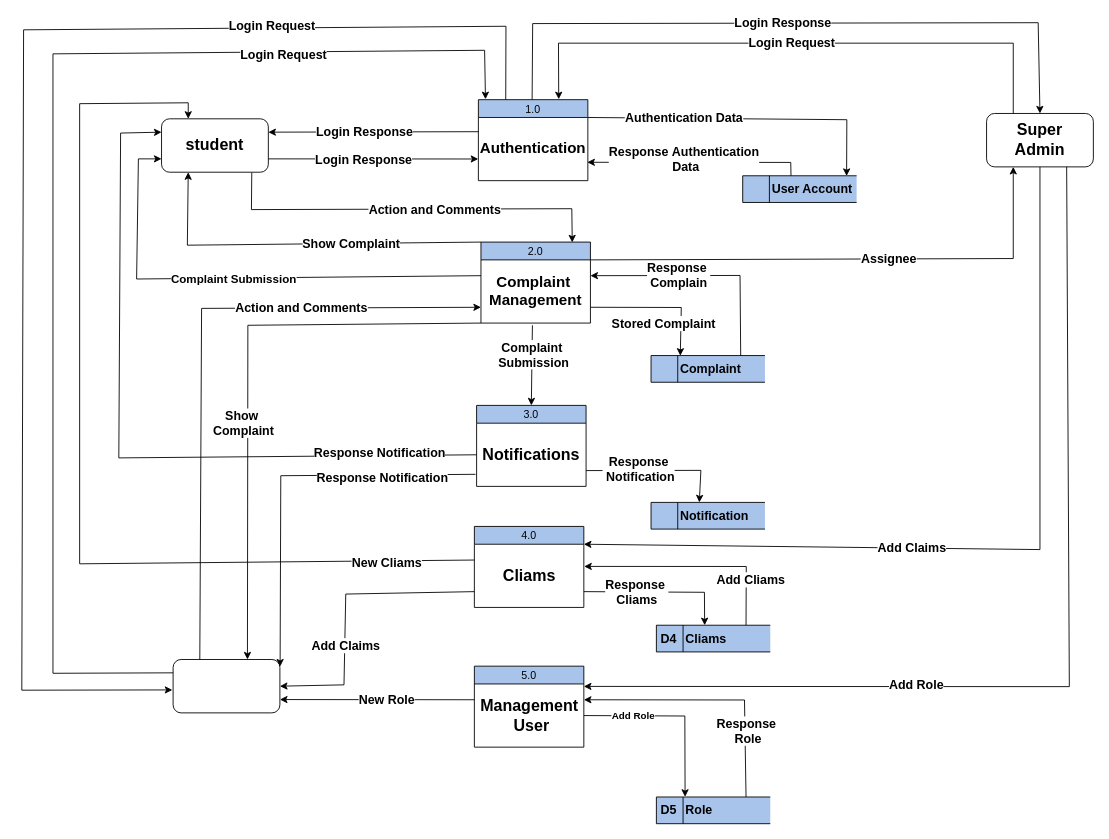
Image size: 1109x839. Some labels were removed from this diagram. Here are the shapes that lost their labels. From the top down, the box of each, then its label:
(742, 175, 857, 202): D1
(650, 355, 765, 382): D2
(650, 502, 765, 529): D3
(172, 659, 280, 713): Admin
